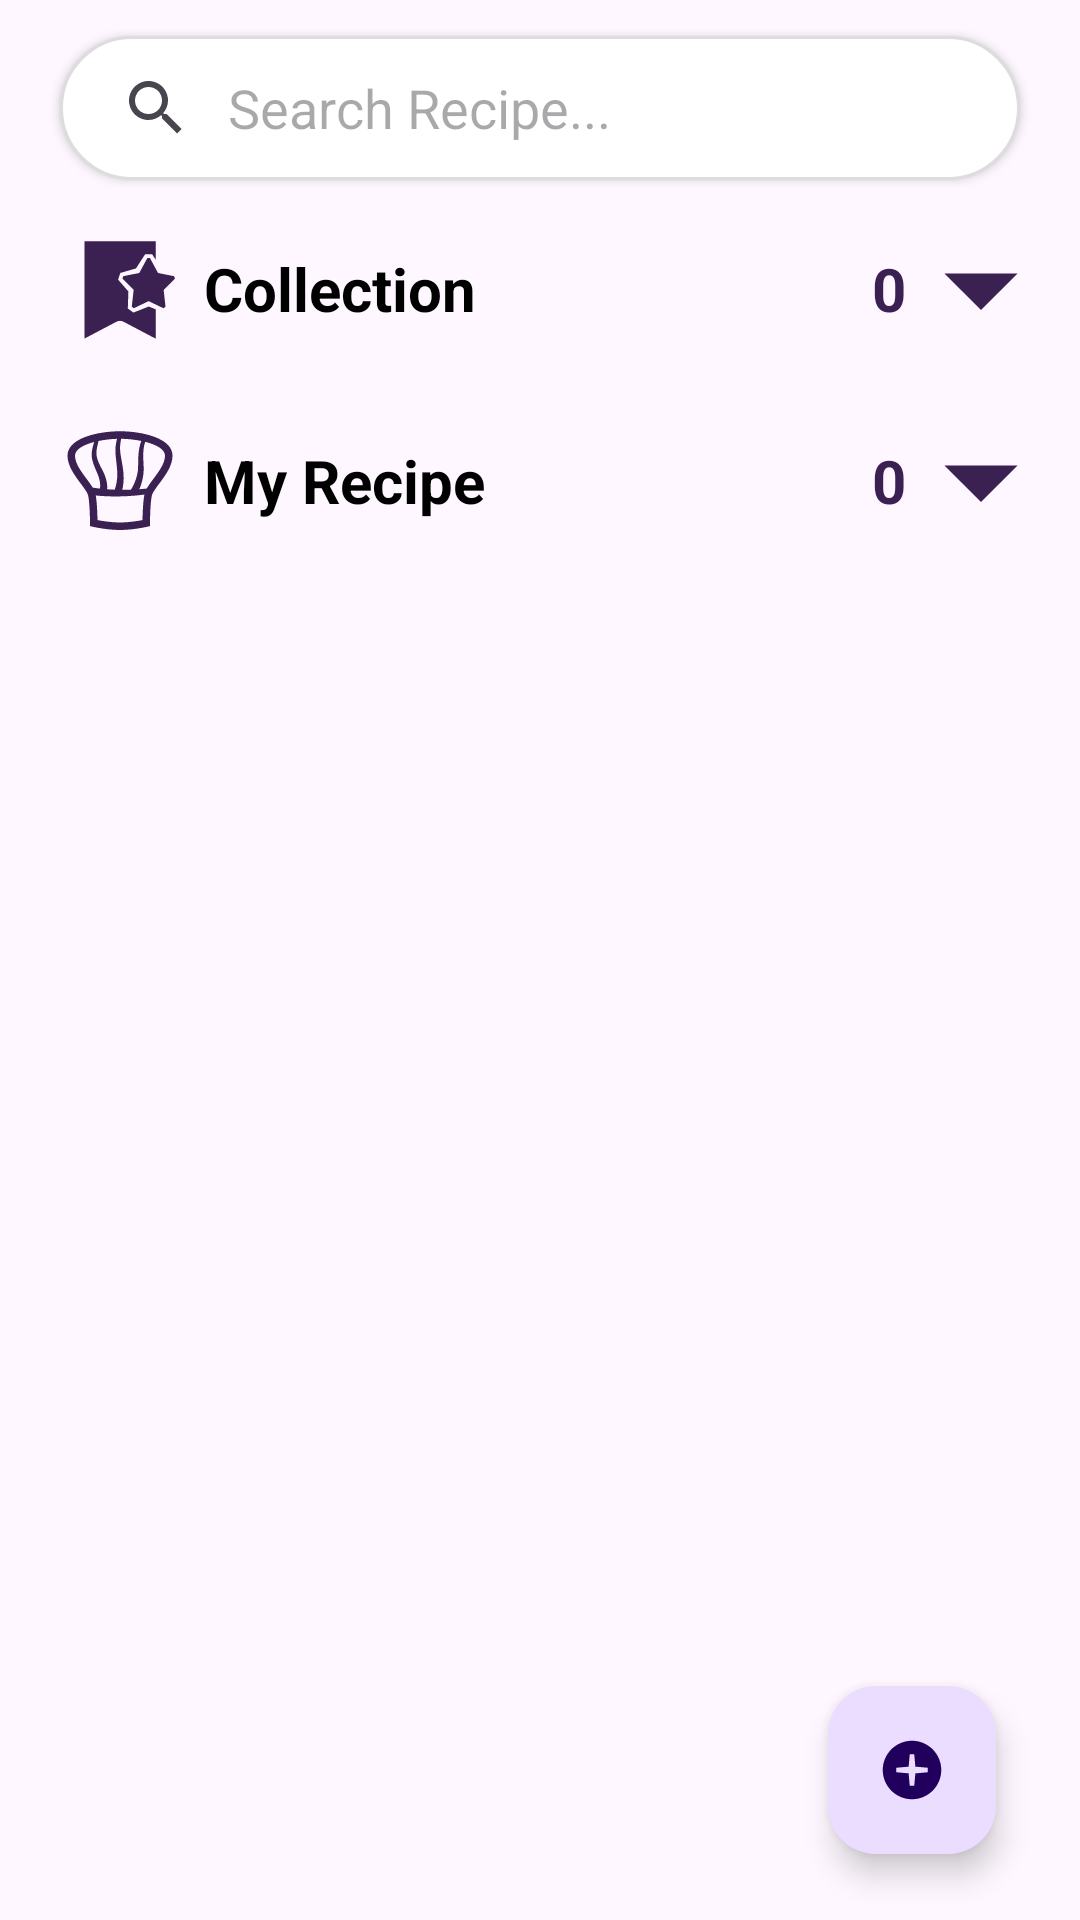

Icons on this 1080×1920 Android screen, each with the point to tap as point (x, y):
Add recipe: point (912, 1770)
Expand Icon: point (981, 291), point (981, 483)
Owned Recipe Icon: point (120, 480)
